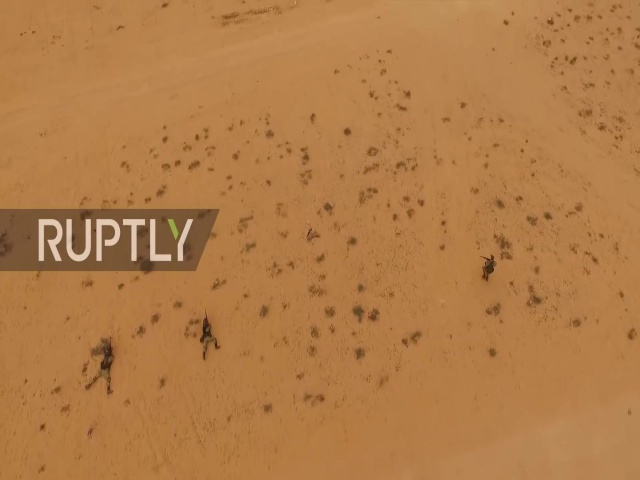person: (83, 340, 116, 395), (197, 309, 221, 362), (475, 254, 498, 284)
